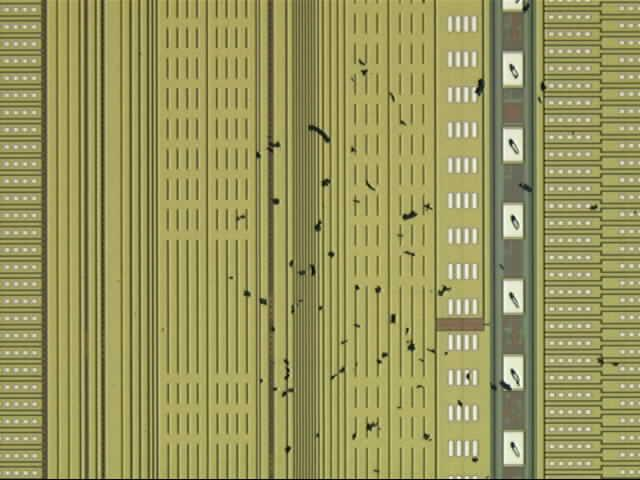PO CONTAMINATION: (228, 1, 626, 477)
